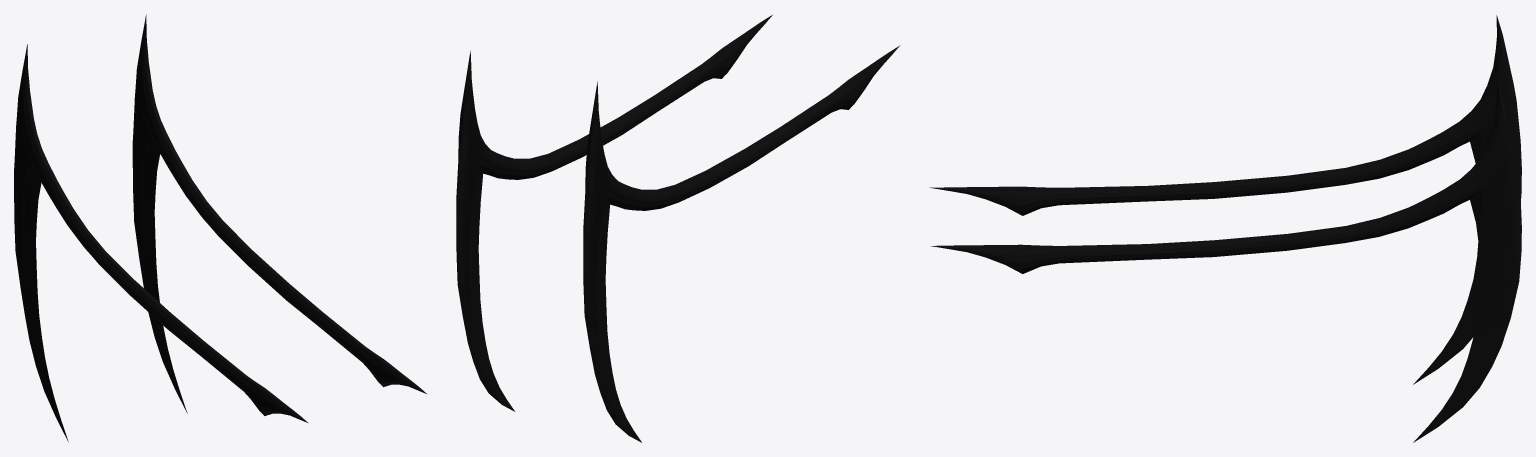
Rendered from antitheus.glb.
3 renders of one model, left to right at view 1: azimuth 30°, elevation 25°; view 2: azimuth 150°, elevation 25°; view 3: azimuth 270°, elevation 25°, orthographic. The views are drawn at different scales.
Visible parts, largest first — view 1: off__Tool_L, main__Tool_R; view 2: off__Tool_L, main__Tool_R; view 3: main__Tool_R, off__Tool_L.
Boxes of the visible parts, x1,y1,x2,y2 form: off__Tool_L: [14, 44, 307, 442]; main__Tool_R: [132, 14, 426, 413]; off__Tool_L: [583, 45, 900, 442]; main__Tool_R: [456, 15, 772, 411]; main__Tool_R: [931, 73, 1521, 442]; off__Tool_L: [929, 15, 1521, 384].
Size of the model in its own units: 1.03 by 2.79 by 4.04.
1 material, 1 textured.
